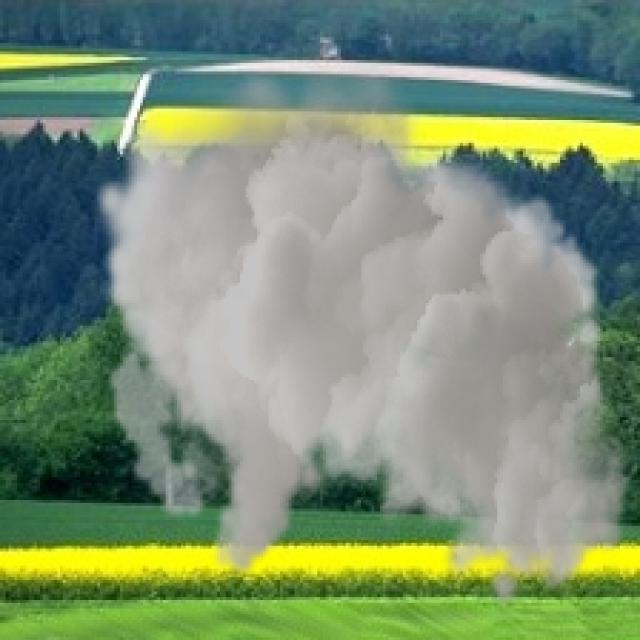smoke: (91, 49, 632, 612)
